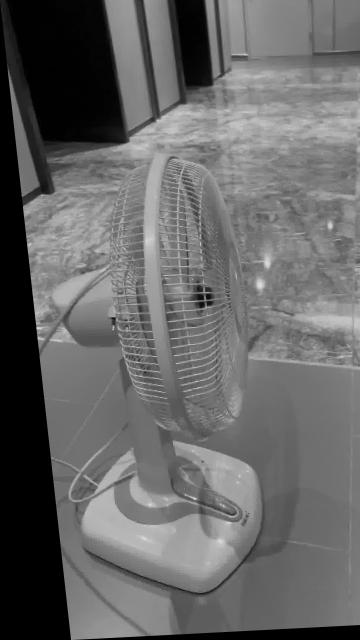Fan: (46, 152, 250, 598)
